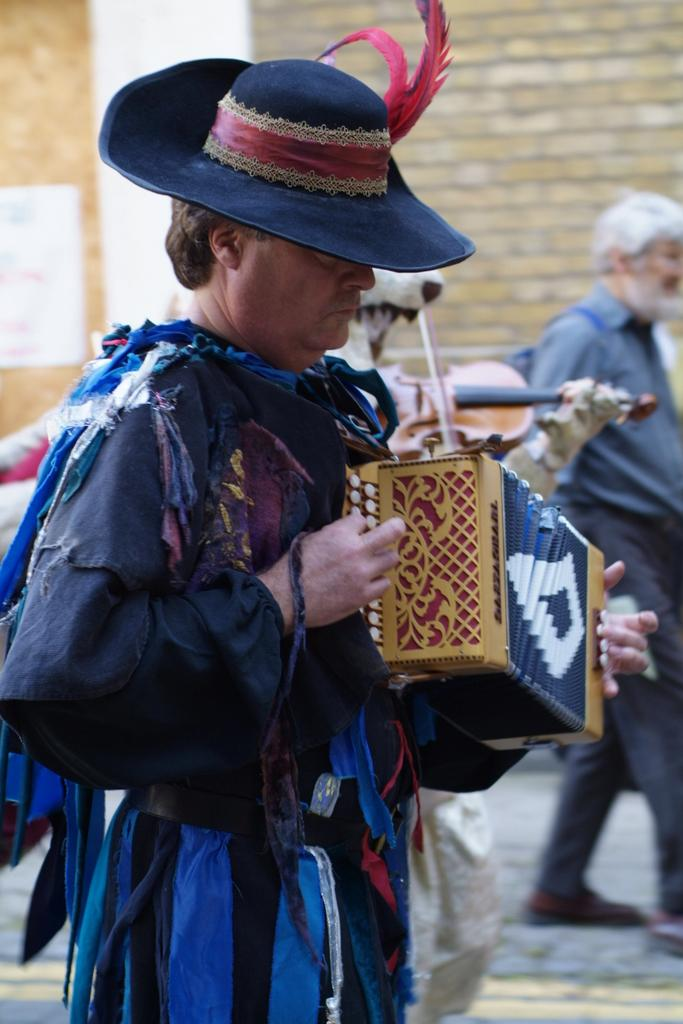Hat: (97, 57, 475, 276)
